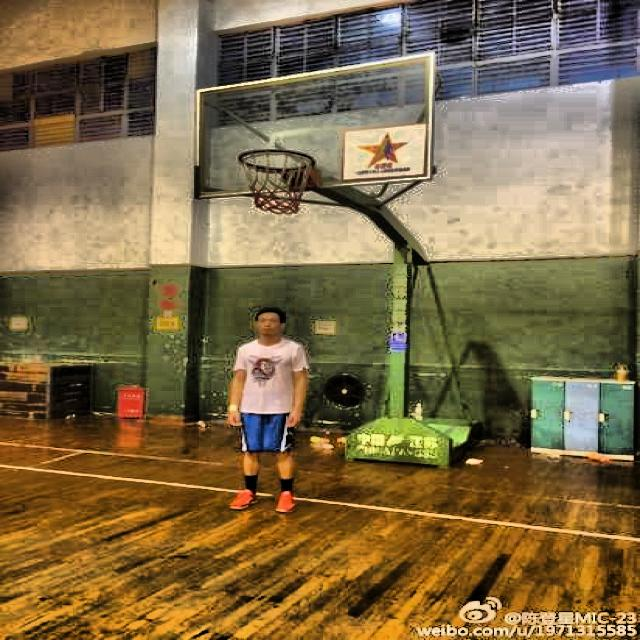rim: (239, 150, 316, 214)
